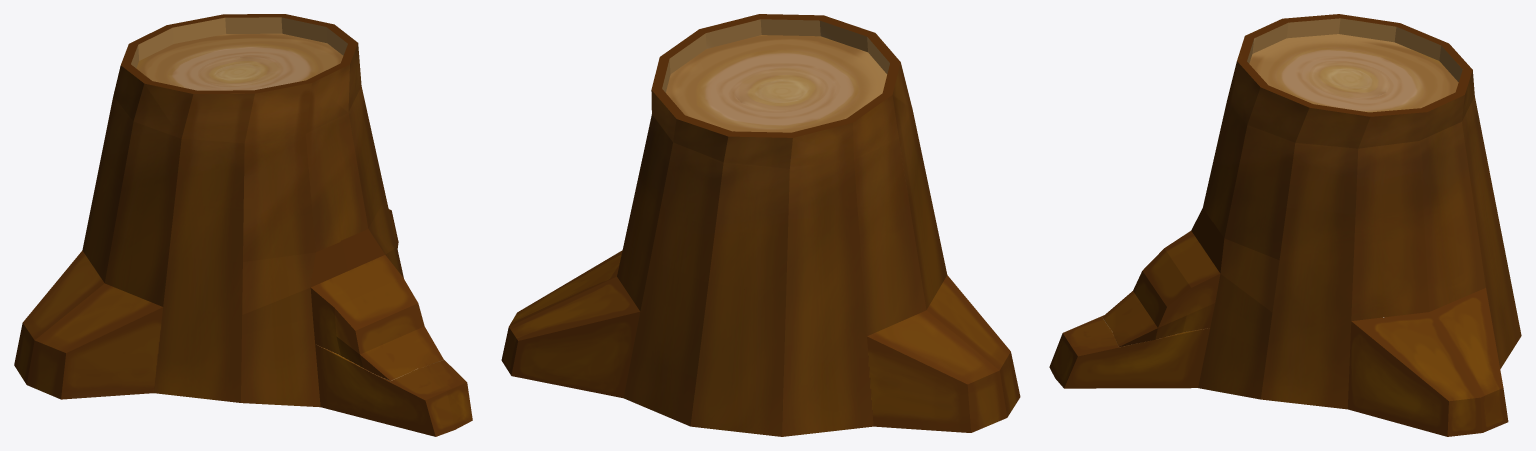
File: Tree_st3.fbx
3 renders of one model, left to right at view 1: azimuth 30°, elevation 25°; view 2: azimuth 150°, elevation 25°; view 3: azimuth 270°, elevation 25°, orthographic. The views are drawn at different scales.
Visible parts, largest first — view 1: Корень.002; view 2: Корень.002; view 3: Корень.002.
Boxes of the visible parts, box(x1,y1,x2,y2) form: Корень.002: box(14, 14, 472, 436); Корень.002: box(501, 14, 1020, 436); Корень.002: box(1049, 14, 1521, 436).
Size of the model in its own units: 236 by 157 by 229.
